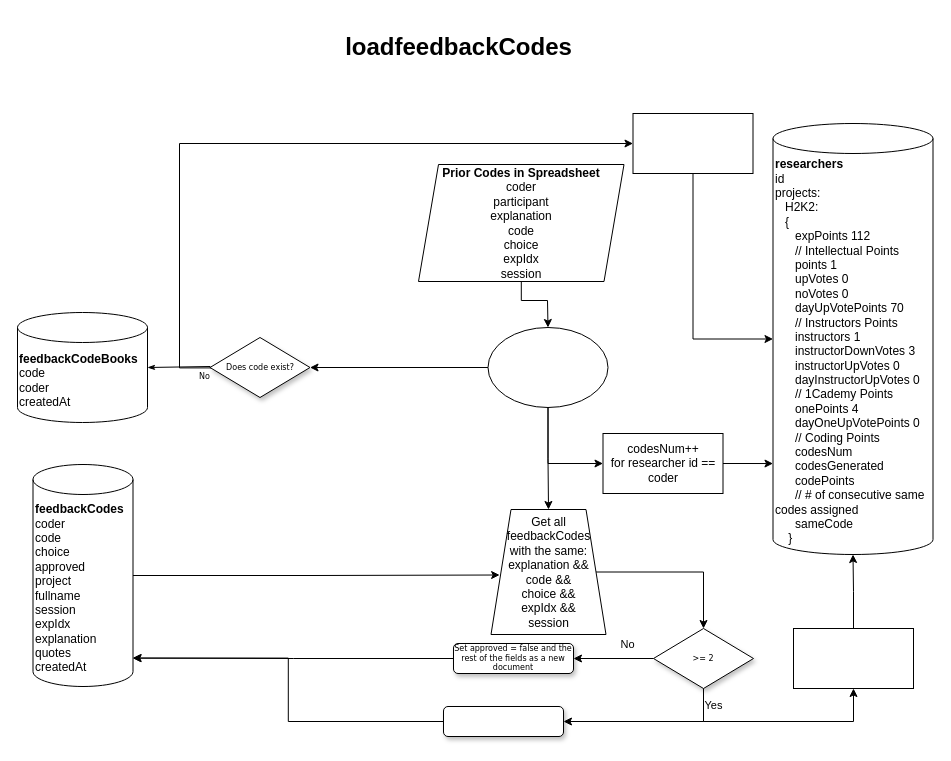
This 951x761 diagram has some shape labels left out. Each missing label, with the centre of its shape:
"codesGenerated++ for researcher id == coder" belongs at [692,143].
"codesPoints++ for researcher id == coder" belongs at [853,658].
"For every prior code" belongs at [547,367].
"Set approved = true and the rest of the fields as a new document" belongs at [504,723].
